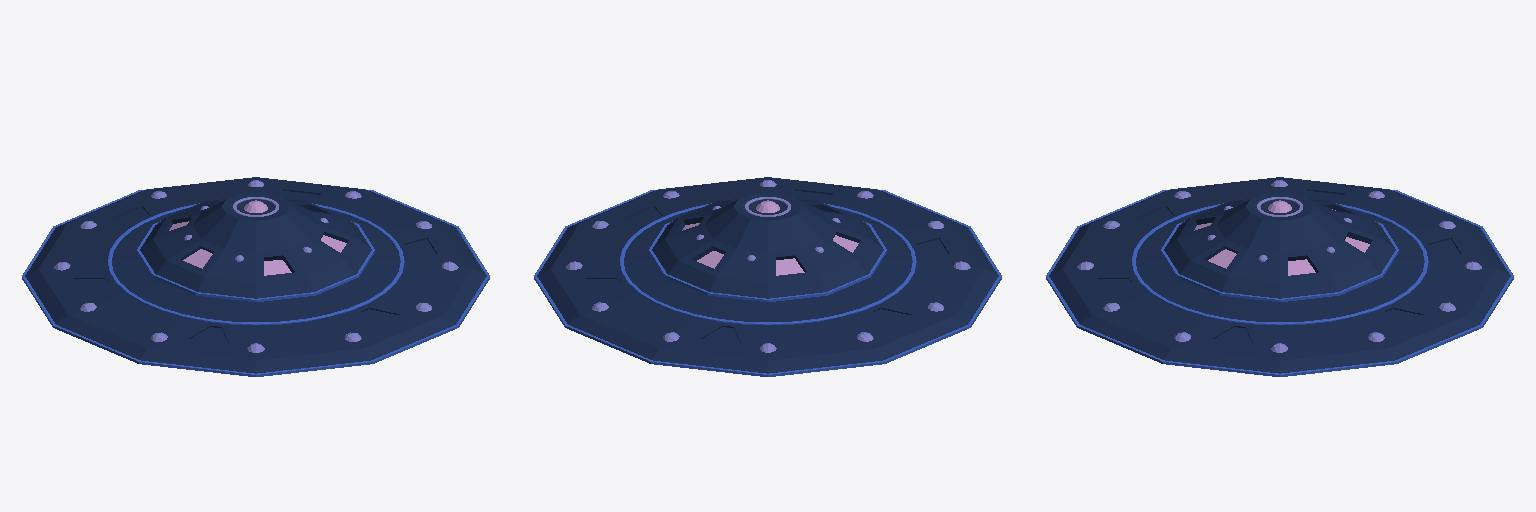
3 renders of one model, left to right at view 1: azimuth 30°, elevation 25°; view 2: azimuth 150°, elevation 25°; view 3: azimuth 270°, elevation 25°, orthographic.
Bounding box in the file's own units: 424 × 108 × 424.
1 materials, 1 textured.